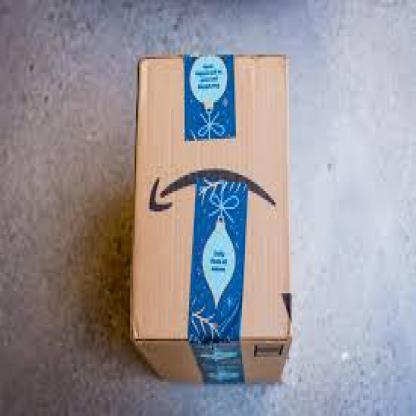package: (129, 49, 296, 391)
